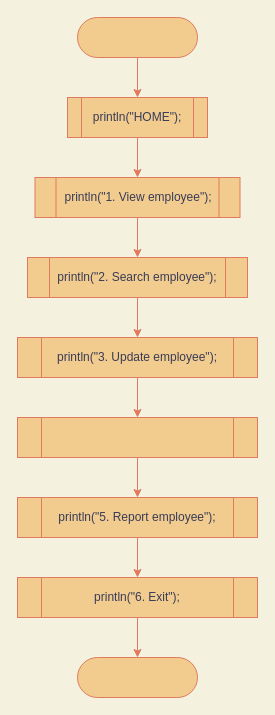
Image size: 275x715. Some labels were removed from this diagram. The centre of each missing label's shape, as x and y in pixels:
displayHome(): point 137,37
End: point 137,677
println("4. Delete employee");: point 137,437
